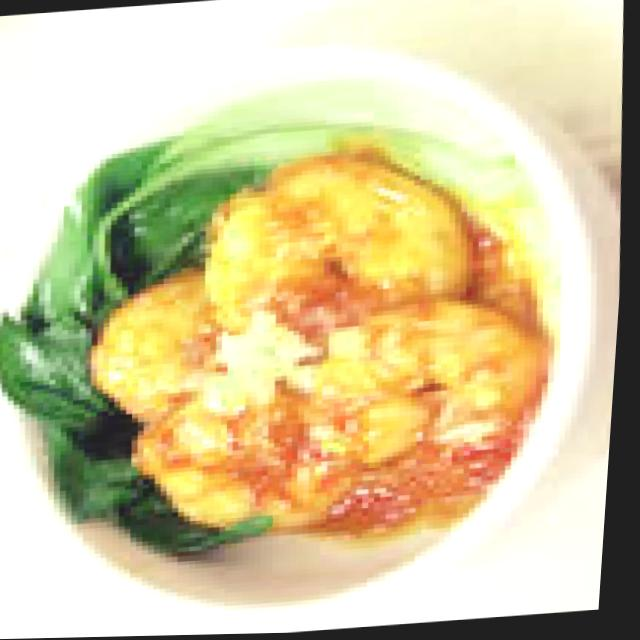熟制海鲜: (0, 22, 636, 640)
